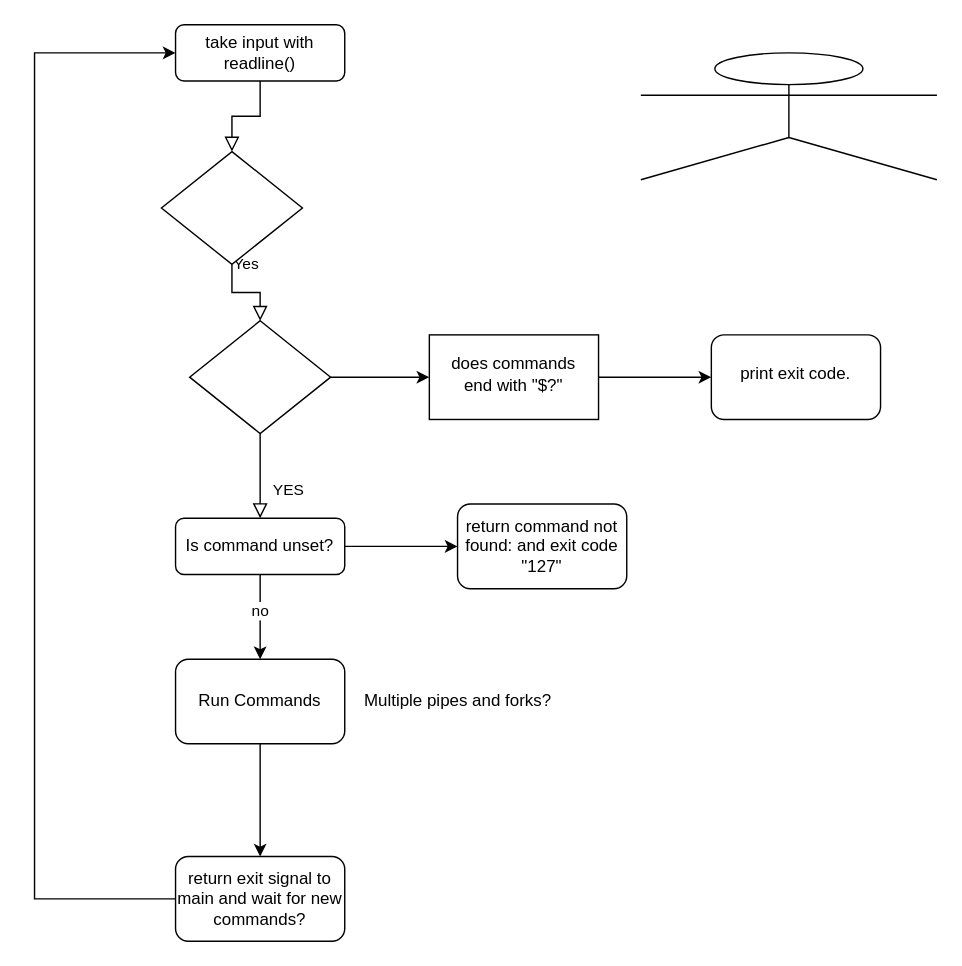
Some shapes in this 962 by 966 pixel diagram are drawn without their labels. The centre of each missing label's shape, as x and y in pixels:
"Actor" goes at [788,115].
"Is command valid program?" goes at [259,376].
"Parse and count commands" goes at [231,207].
